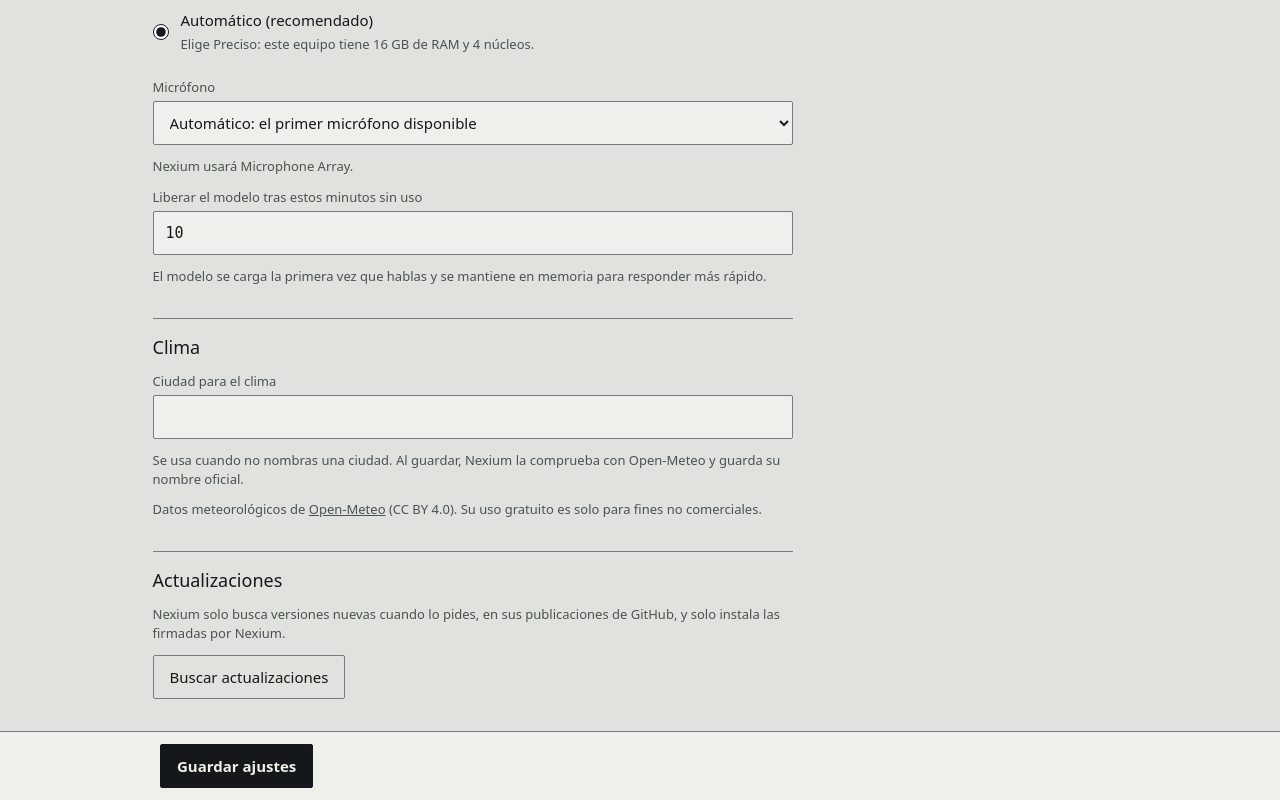
Test: Ajustes: micrófono › el botón confirma lo guardado hasta el siguiente cambio
(page scrolled)
Step 1. Click the button "Guardar ajustes" → (237, 766), box [160,744,313,788]
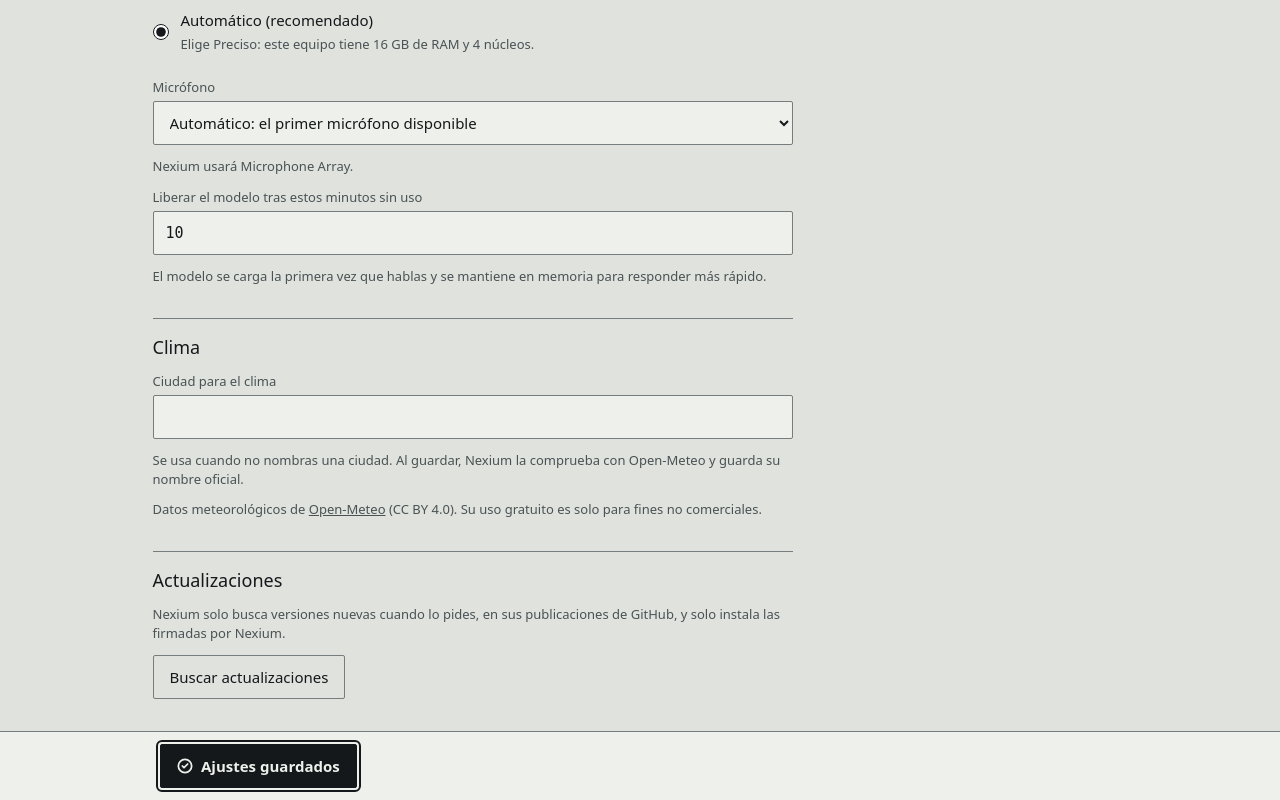
expect the button "Ajustes guardados" is shown: met, box [160,744,357,788]
Step 2. Select "Microphone Array" in the dropdown labelled "Micrófono" → (472, 123), box [152,101,792,145]
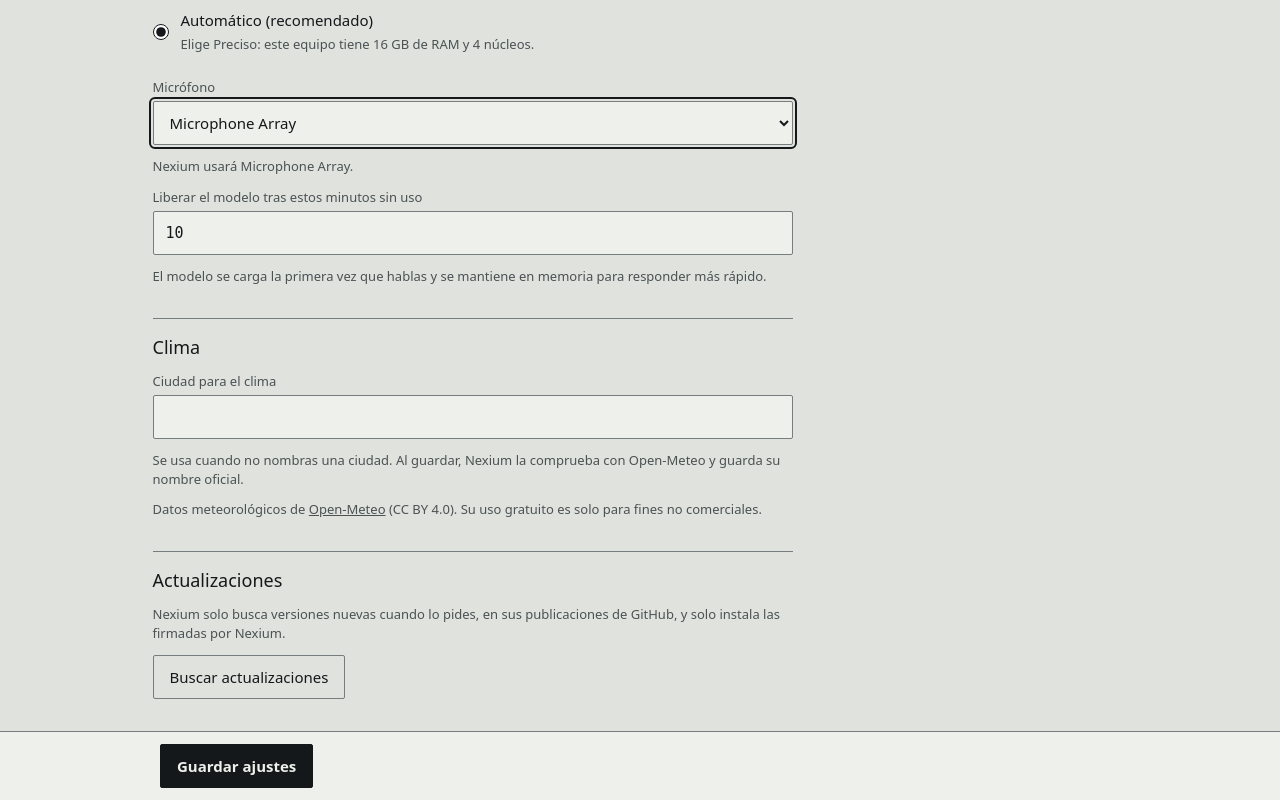
expect the button "Guardar ajustes" is shown: met, box [160,744,313,788]
